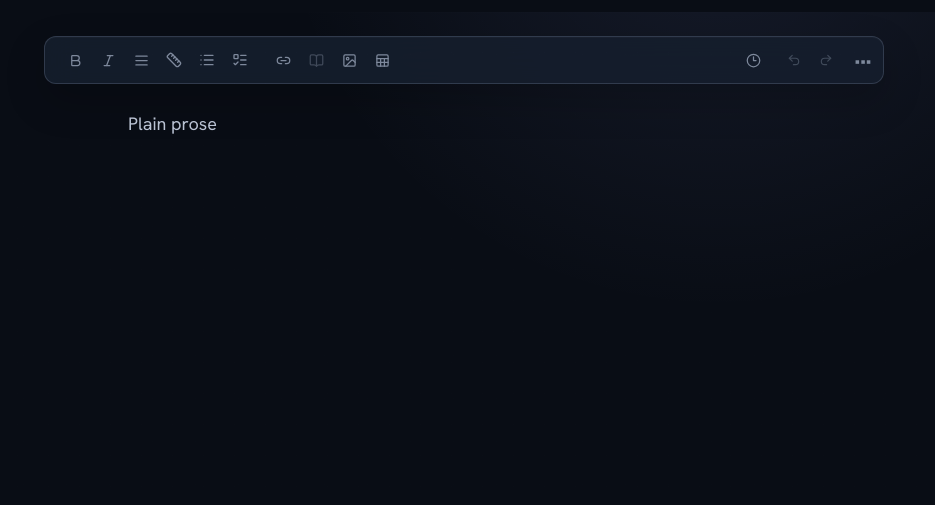
Scenario: optional block controls in the real note editor › enters editing under StrictMode without reading an unmounted editor view
The width and height of the screenshot is (935, 505).
Step 1. Click the button named "More formatting" → [863, 60], box [848,45,878,75]
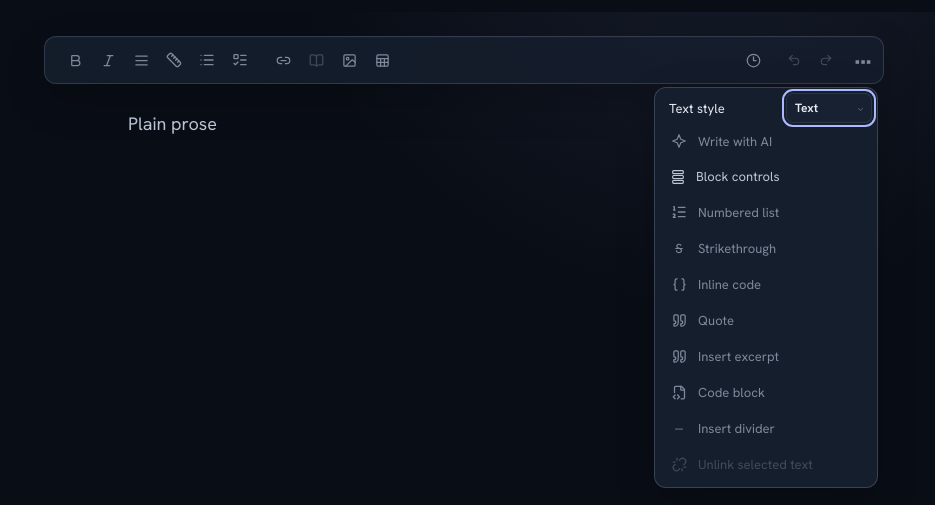
Step 2. Click the menu item "Block controls" → [766, 176], box [660,159,872,194]
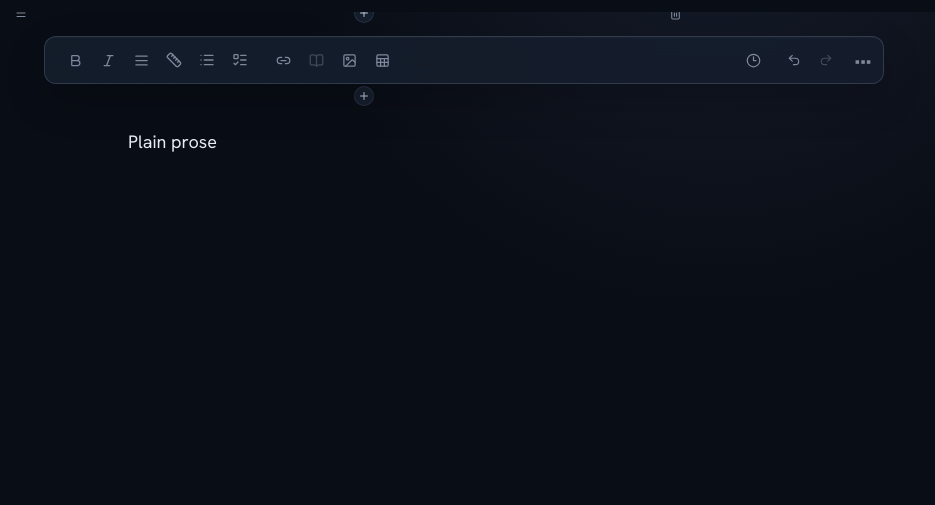
Result: the button named "Insert after text block" is shown at [354,86,374,106]
